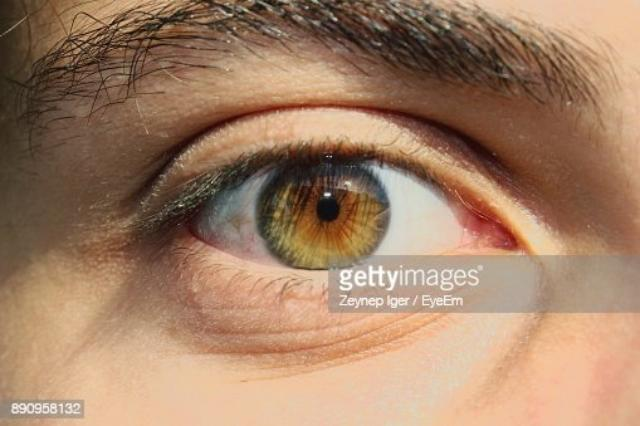eye: (256, 150, 394, 271)
